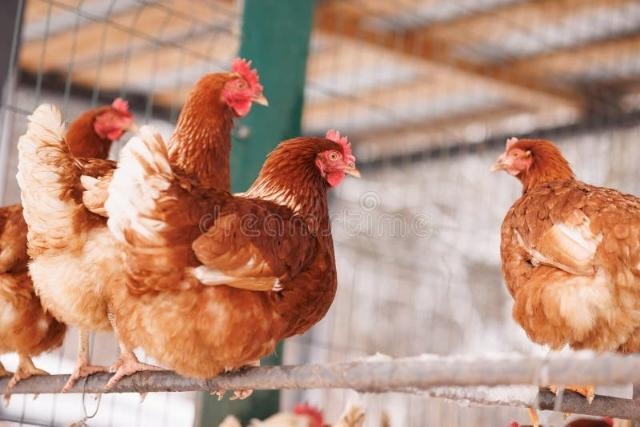Chicken: (18, 56, 269, 390), (109, 124, 361, 375), (0, 97, 140, 388), (490, 137, 640, 357)
